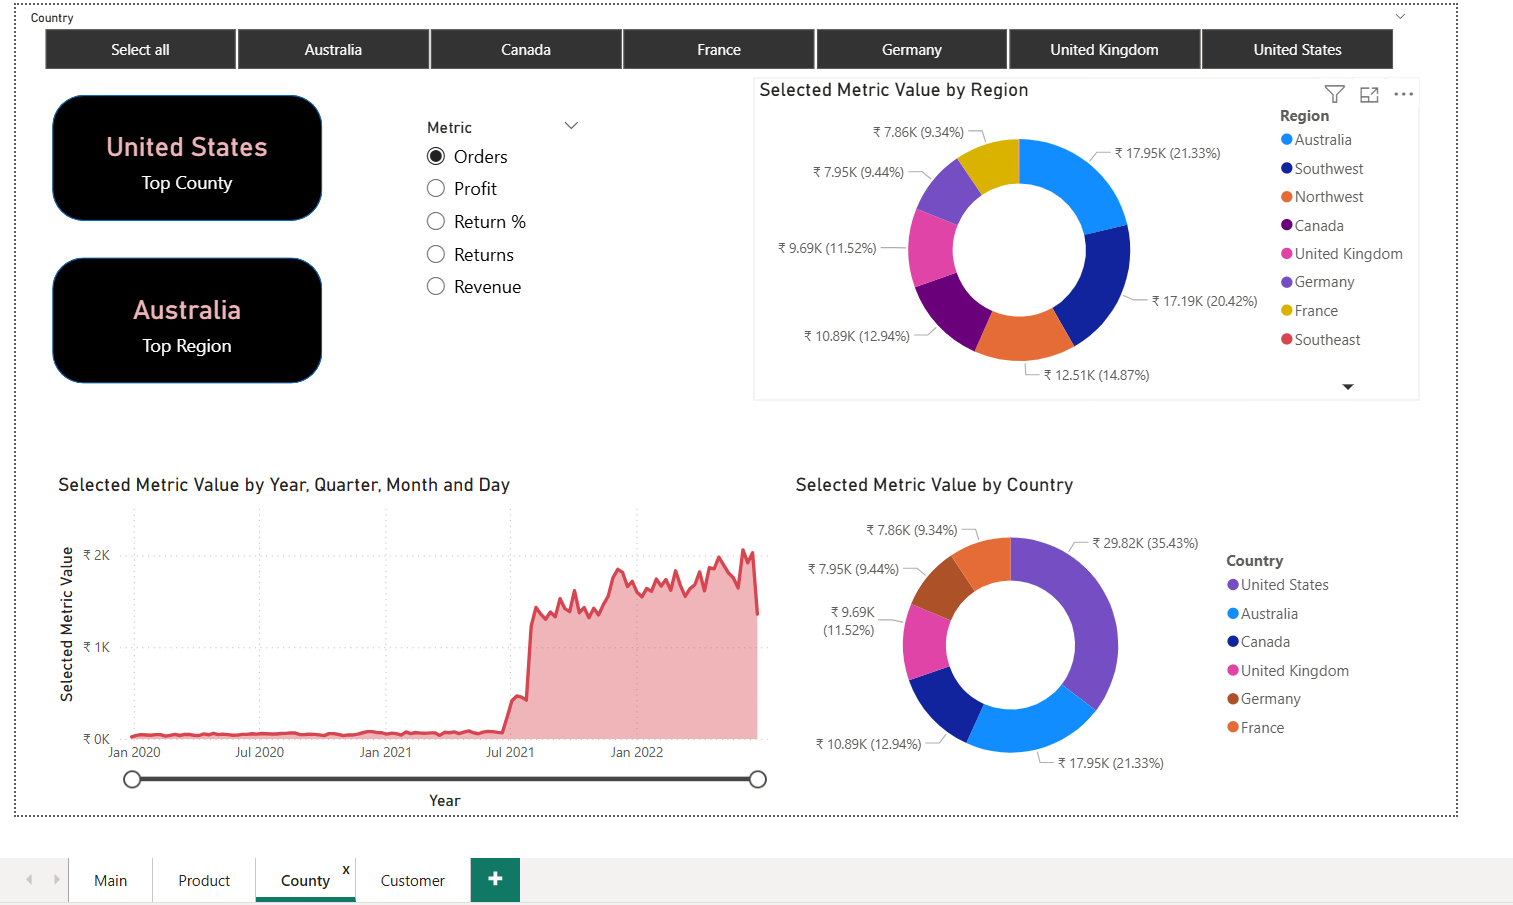

This screenshot's page, from the dashboard's own definition file:
{"tool":"powerbi","page":{"name":"County","canvas":[1280,720],"ordinal":2},"visuals":[{"type":"areaChart","fields":{"Category":["Calendar.First Day of Week.Variation.Date Hierarchy.Year","Calendar.First Day of Week.Variation.Date Hierarchy.Quarter","Calendar.First Day of Week.Variation.Date Hierarchy.Month","Calendar.First Day of Week.Variation.Date Hierarchy.Day"],"Y":["Measure Table.Selected Metric Value"]},"box":[32,416,656,304],"z":0},{"type":"slicer","fields":{"Values":["Metric Selector.Metric"]},"box":[352,96,160,272],"z":1000},{"type":"shape","box":[32,224,240,112],"z":1500},{"type":"shape","box":[32,80,240,112],"z":2000},{"type":"donutChart","fields":{"Category":["Territory.Country"],"Y":["Measure Table.Selected Metric Value"]},"box":[688,416,512,288],"z":3000},{"type":"card","fields":{"Values":["Measure Table.Top County"]},"box":[32,80,240,112],"z":5000},{"type":"card","fields":{"Values":["Measure Table.Top Region"]},"box":[32,224,240,112],"z":6000},{"type":"slicer","fields":{"Values":["Territory.Country"]},"box":[0,0,1248,64],"z":6500},{"type":"donutChart","fields":{"Category":["Territory.Region"],"Y":["Measure Table.Selected Metric Value"]},"box":[656,64,592,288],"z":7000}]}

Visuals, with their boxes on the page's 1280x720 design canvas (x1, y1, x2, y2). These are canvas units, not pixel positions in the 1513x905 screenshot, which may show the page scaled, cropped or inside an application window:
areaChart - Calendar.First Day of Week.Variation.Date Hierarchy.Year x Calendar.First Day of Week.Variation.Date Hierarchy.Quarter: 32, 416, 688, 720
slicer - Metric Selector.Metric: 352, 96, 512, 368
shape: 32, 224, 272, 336
shape: 32, 80, 272, 192
donutChart - Territory.Country x Measure Table.Selected Metric Value: 688, 416, 1200, 704
card - Measure Table.Top County: 32, 80, 272, 192
card - Measure Table.Top Region: 32, 224, 272, 336
slicer - Territory.Country: 0, 0, 1248, 64
donutChart - Territory.Region x Measure Table.Selected Metric Value: 656, 64, 1248, 352
